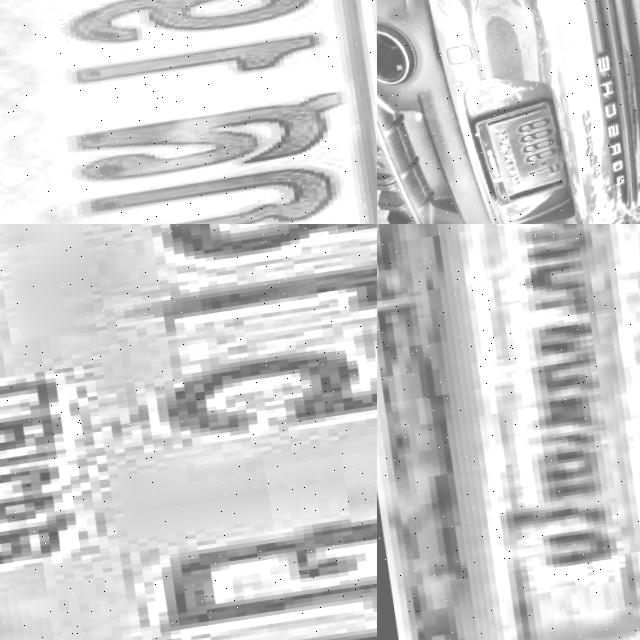license-plate: (0, 224, 377, 640), (377, 224, 640, 640), (0, 0, 377, 224), (456, 94, 584, 216)
